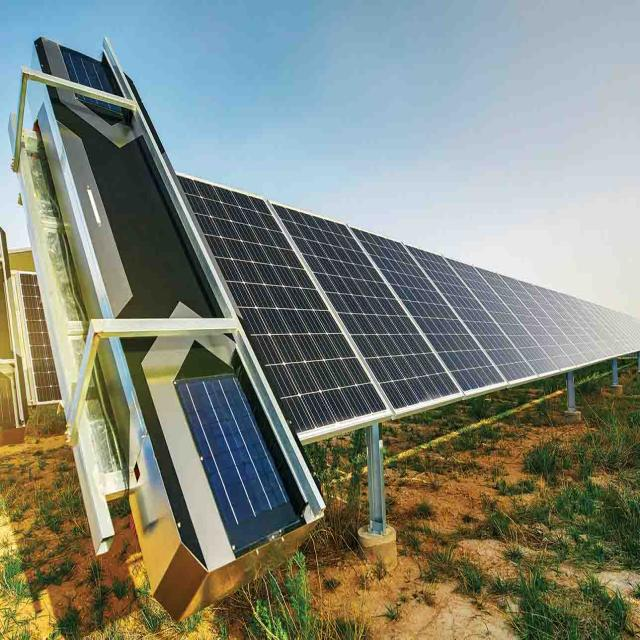clean-solar-panel: (179, 177, 640, 442)
